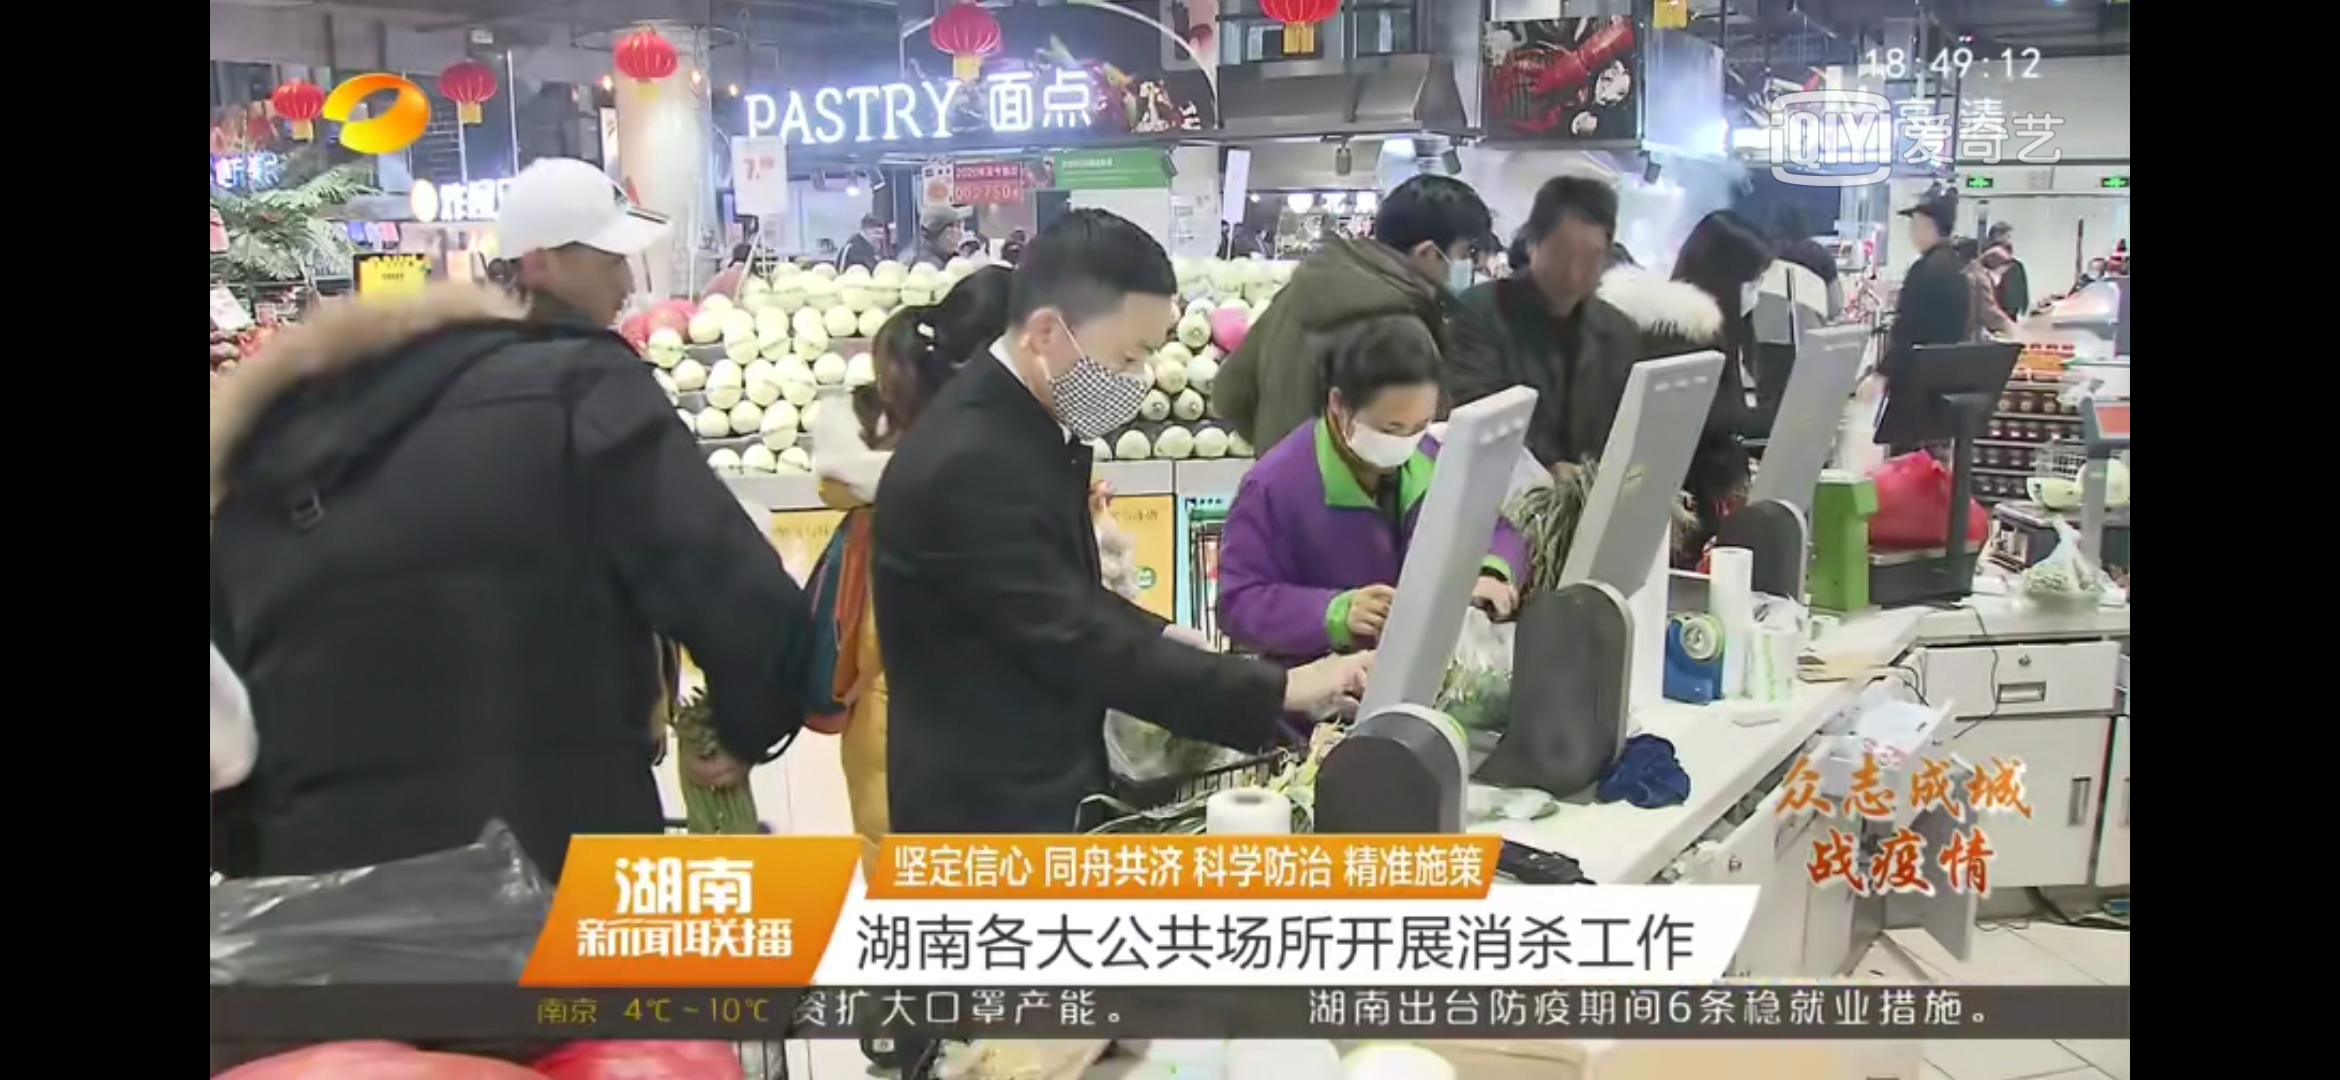correctlyWear: (1025, 288, 1164, 445), (1324, 379, 1440, 471), (1416, 233, 1476, 297), (1728, 257, 1770, 316)
noWear: (530, 236, 639, 336), (1531, 219, 1609, 303), (1907, 210, 1939, 254)
